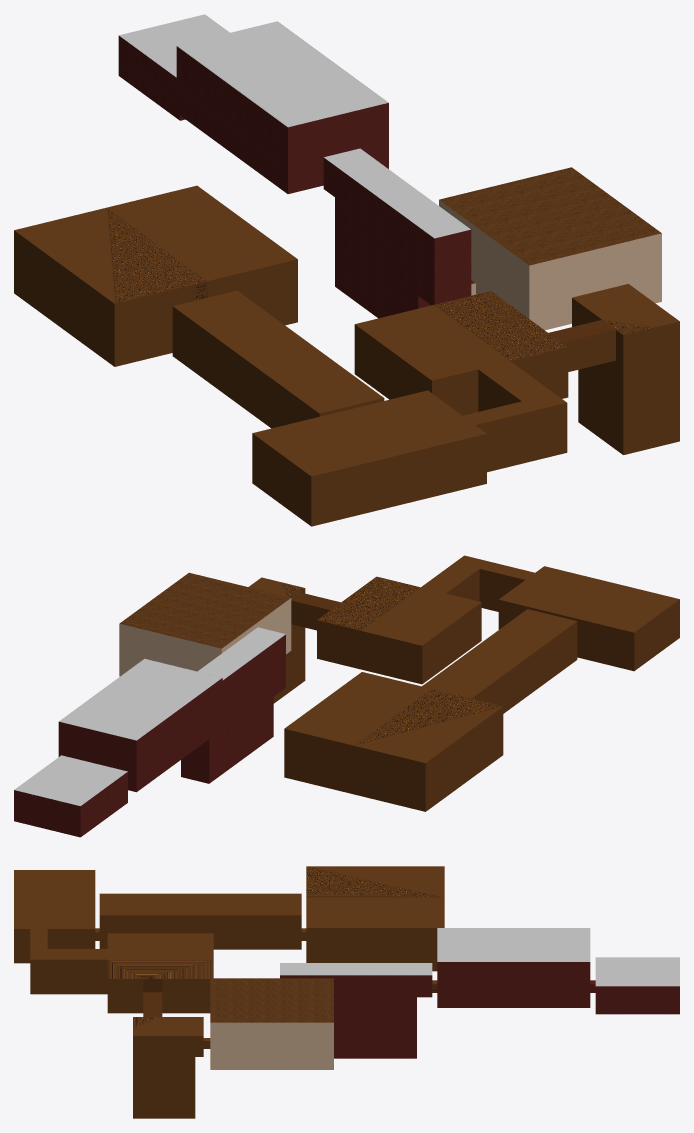
File: LevelBlockOut.fbx
3 views of the same model, one above another, from view 1: azimuth 30°, elevation 25°; view 2: azimuth 150°, elevation 25°; view 3: azimuth 270°, elevation 25° (orthographic). The views are drawn at different scales.
Parts seen in each view (by area): view 1: Cube.001; view 2: Cube.001; view 3: Cube.001.
Boxes of the visible parts, x1,y1,x2,y2 form: Cube.001: (14,14,679,526); Cube.001: (14,555,679,837); Cube.001: (14,866,679,1118).
Size of the model in its own units: 266 by 99.83 by 452.
